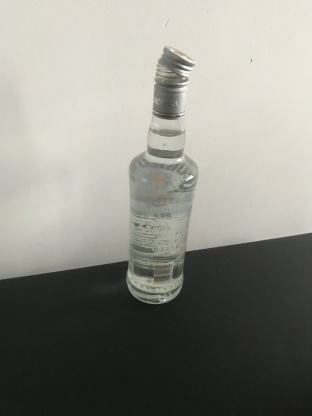nakretka: (150, 43, 196, 120)
